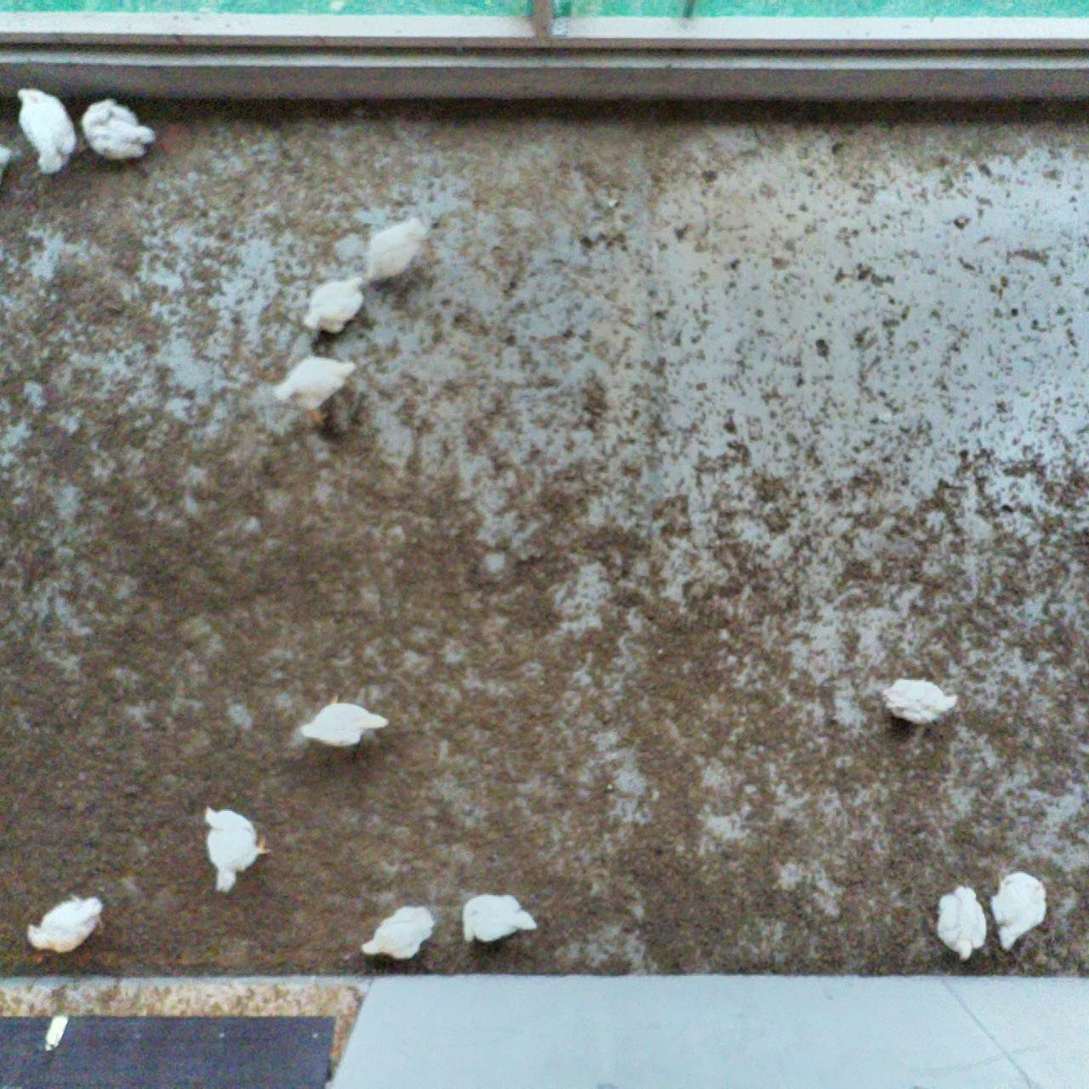chicken: (271, 351, 361, 433), (195, 802, 273, 893), (10, 81, 82, 176), (21, 885, 106, 962), (76, 92, 161, 164), (293, 690, 391, 750), (984, 867, 1052, 953), (357, 897, 438, 962), (932, 878, 993, 964), (360, 214, 431, 287), (881, 672, 965, 731), (303, 268, 367, 340), (460, 890, 536, 947)
